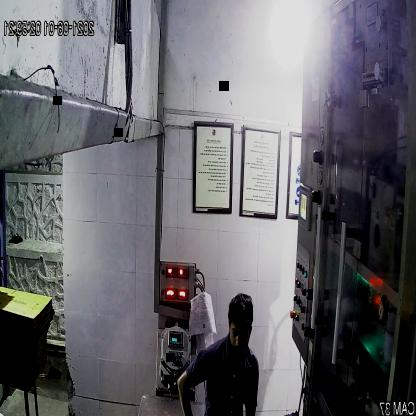no_goggles: (225, 324, 255, 345)
